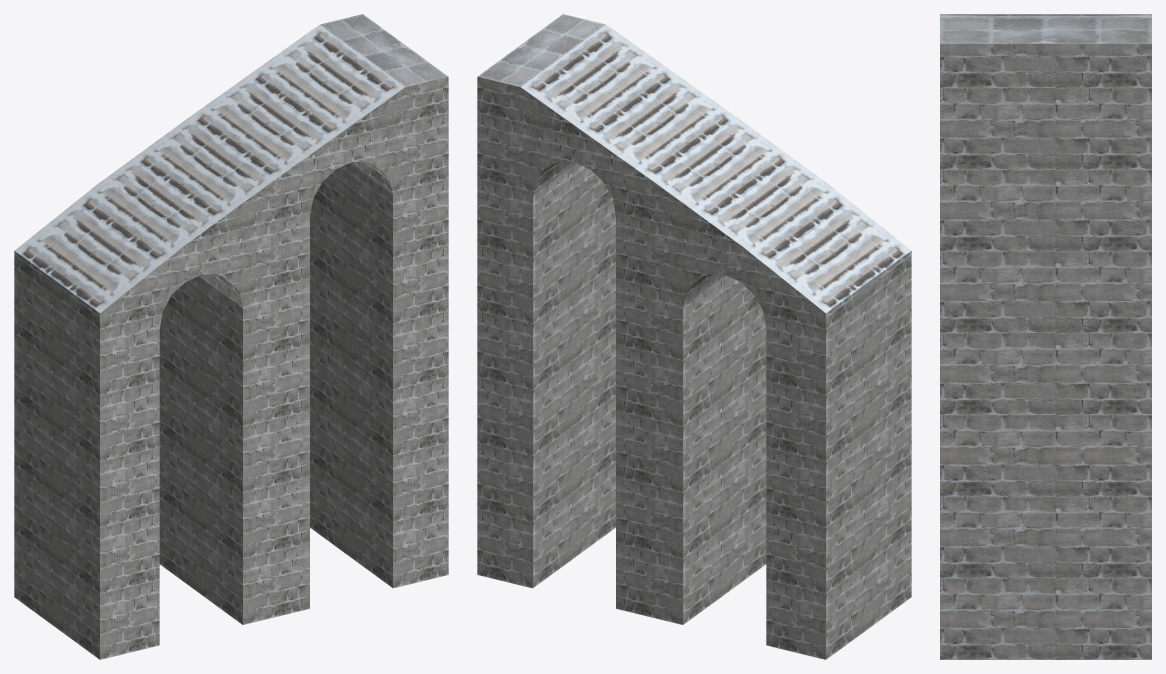
File: jz_taijie_03.FBX
The picture shows the model from 3 angles, left to right: view 1: azimuth 30°, elevation 25°; view 2: azimuth 150°, elevation 25°; view 3: azimuth 270°, elevation 25°; orthographic projection. The views are drawn at different scales.
Visible parts, largest first — view 1: jz_taijie_03; view 2: jz_taijie_03; view 3: jz_taijie_03.
Part boxes in pixels (x1,y1,x2,y2): jz_taijie_03: [14, 14, 448, 659]; jz_taijie_03: [477, 14, 911, 659]; jz_taijie_03: [940, 14, 1151, 659].
Size of the model in its own units: 852 by 1164 by 362.
